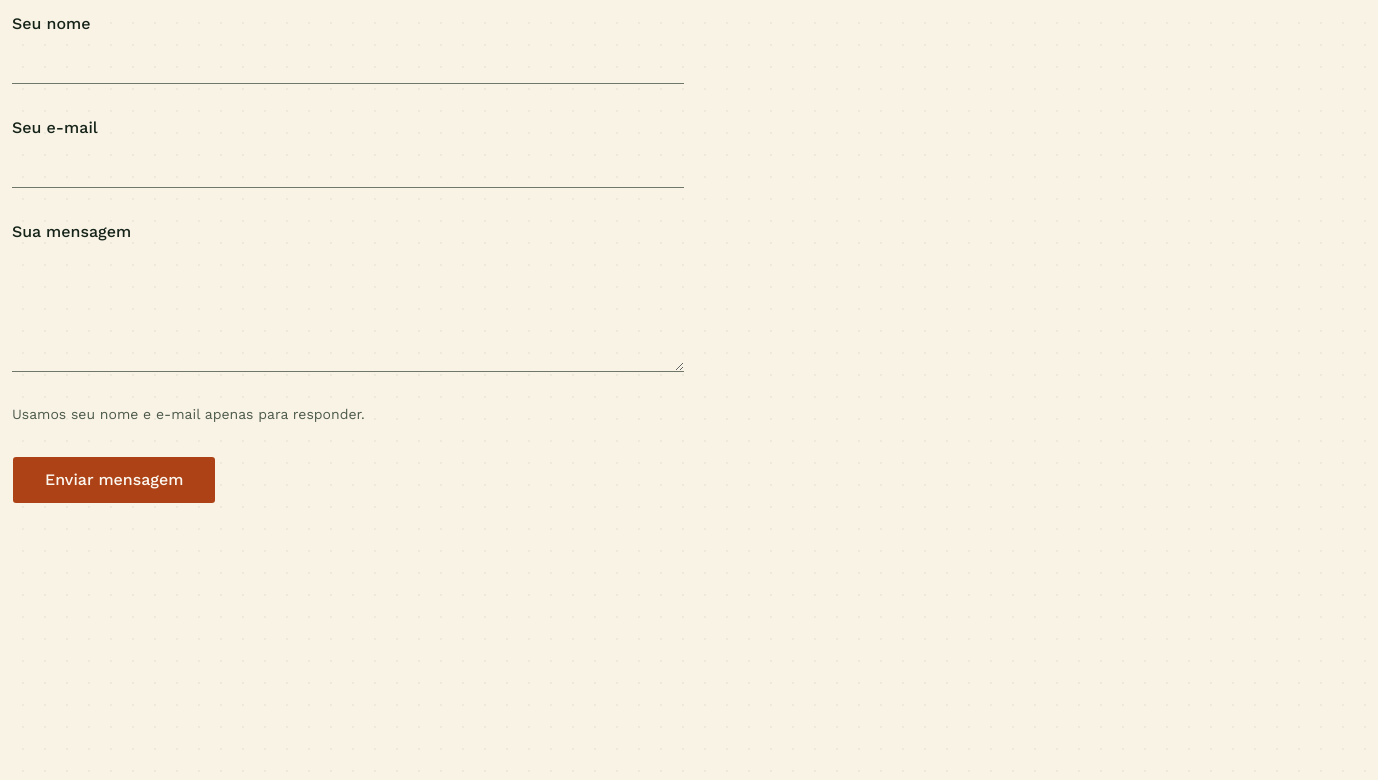
Scenario: ContactForm › erro por campo: mensagem junto ao campo, aria-invalid/describedby e o texto digitado é preservado
Type "Ana" into the field labelled "Seu nome". click: (348, 60)
box: [12, 36, 684, 84]
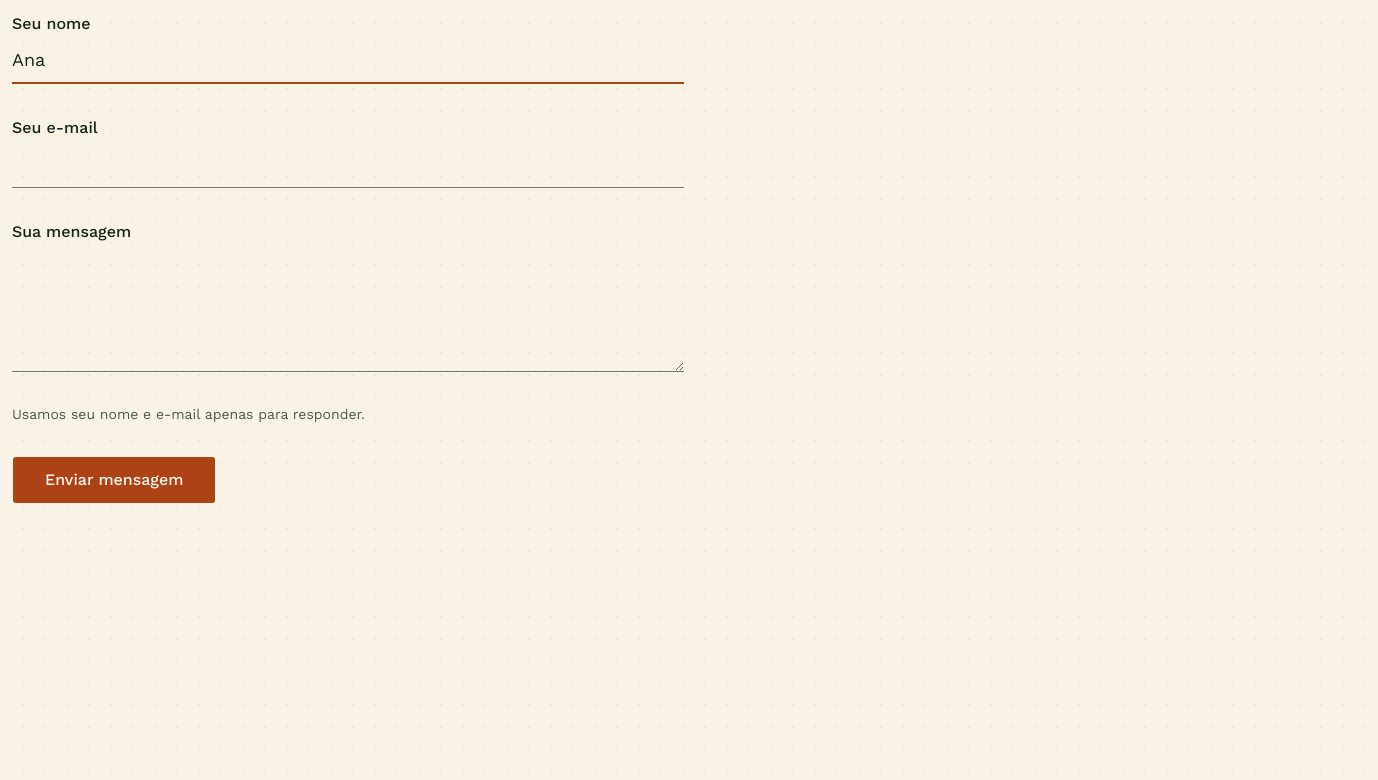
Type "ana@exemplo.com" into the field labelled "Seu e-mail". click: (348, 164)
box: [12, 140, 684, 188]
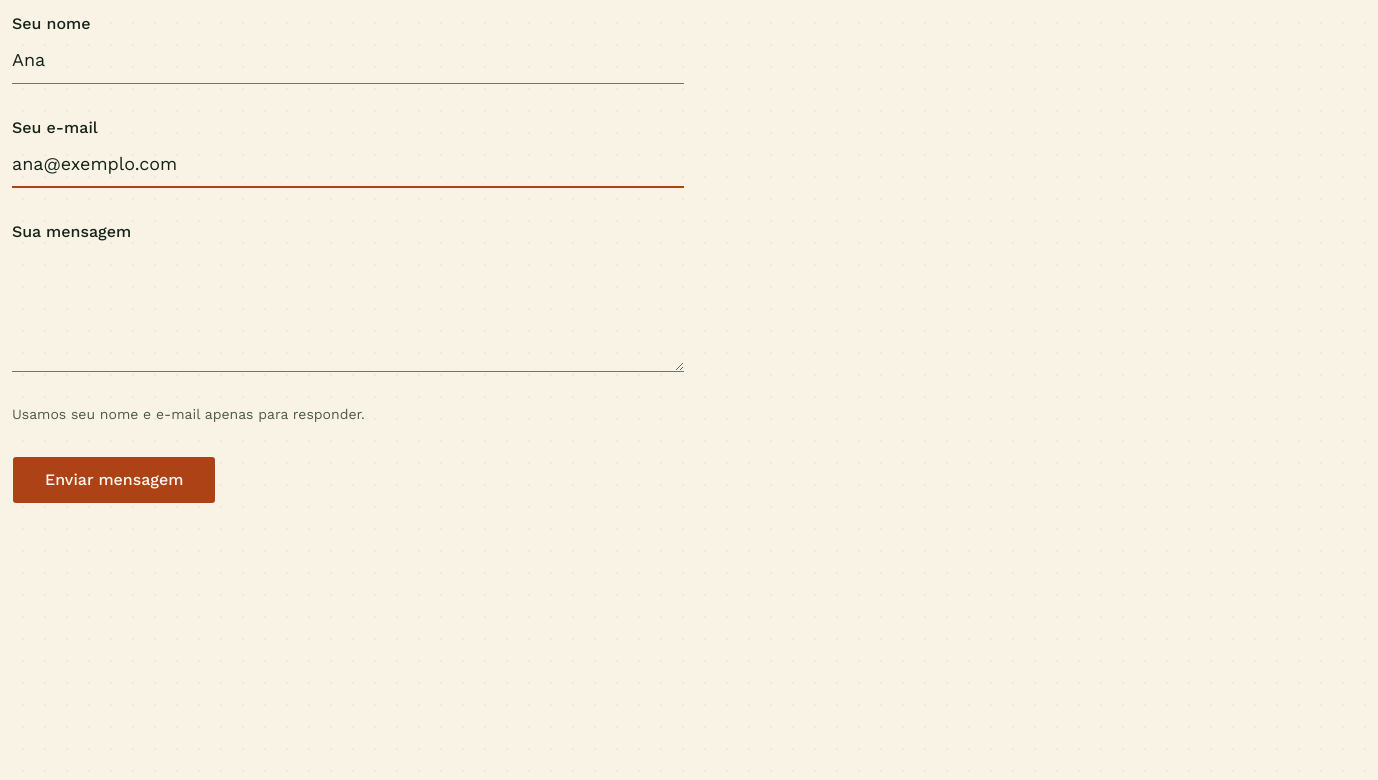
Type "Olá!" into the text box labelled "Sua mensagem". click: (348, 308)
box: [12, 244, 684, 372]
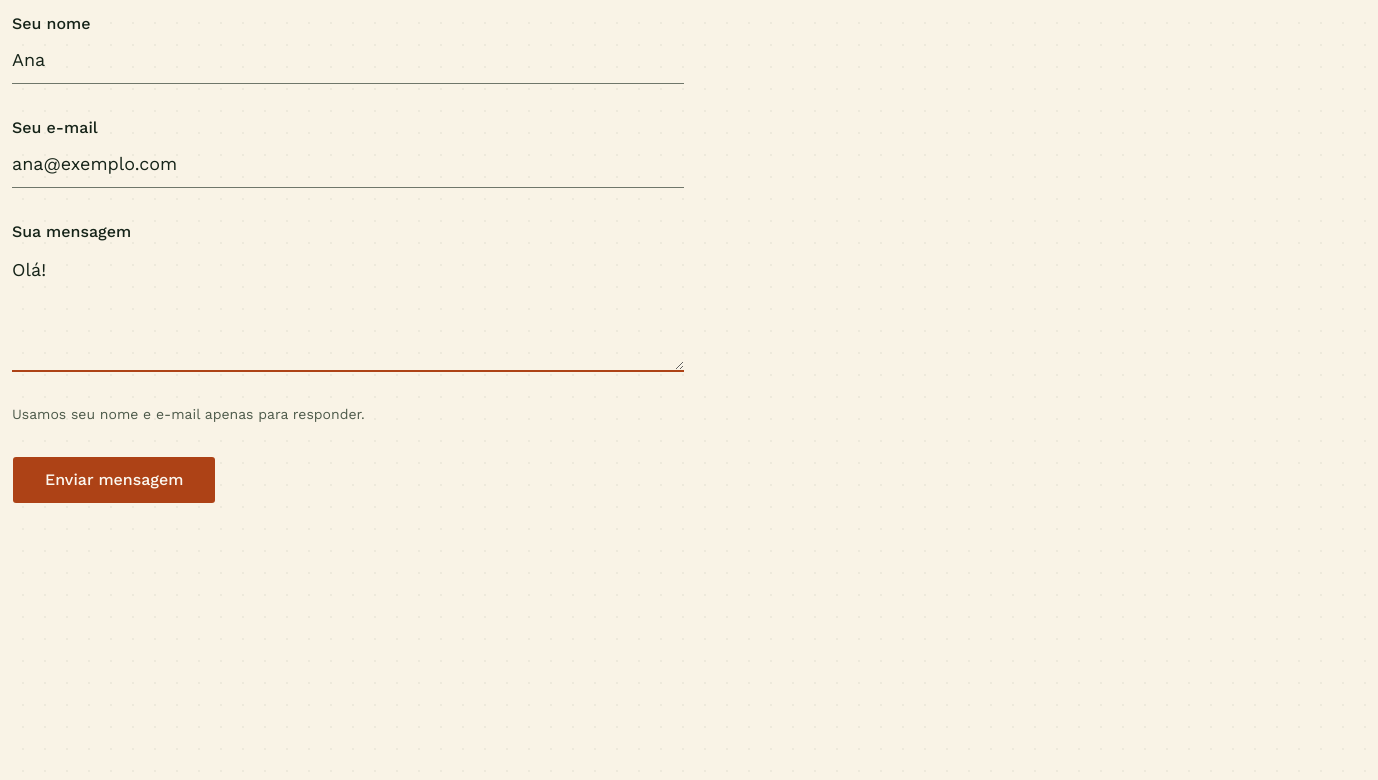
Click the button "Enviar mensagem". click: (114, 480)
box: [12, 456, 216, 504]
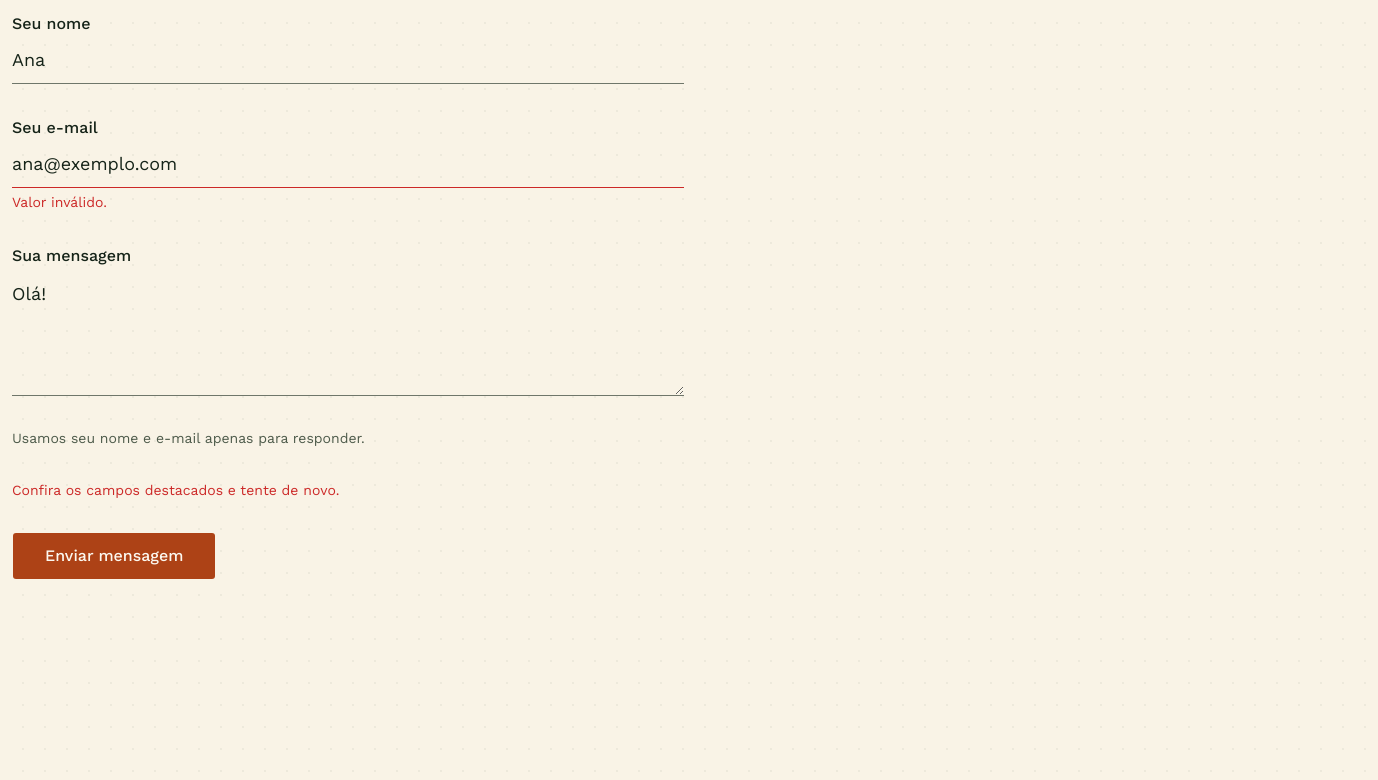
Check: the text "Valor inválido." is shown, box [12, 194, 107, 210]
Check: the message shows "Confira os campos destacados", box [12, 482, 339, 498]
